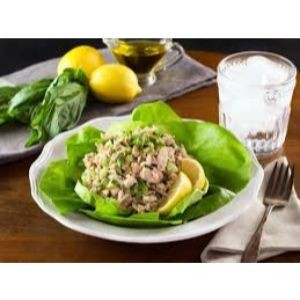tuna_brain food: (76, 126, 188, 229)
